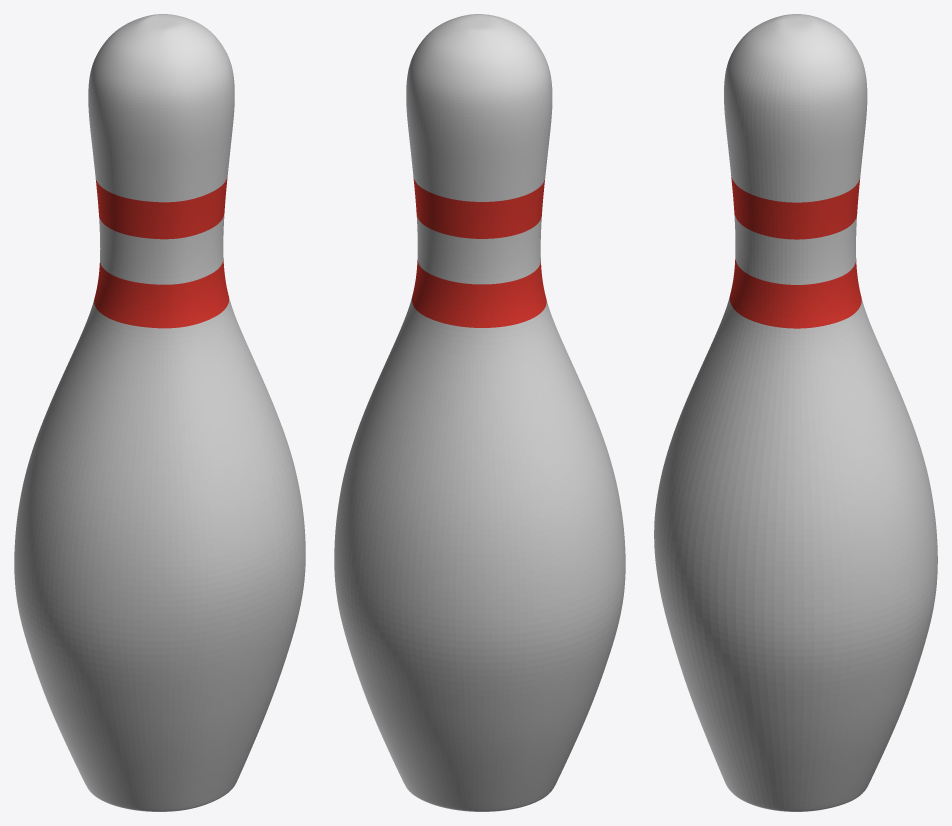
File: bolos.fbx
The picture shows the model from 3 angles, left to right: view 1: azimuth 30°, elevation 25°; view 2: azimuth 150°, elevation 25°; view 3: azimuth 270°, elevation 25°; orthographic projection.
Parts seen in each view (by area): view 1: Cylinder; view 2: Cylinder; view 3: Cylinder.
Part boxes in pixels (bbox=[...]): Cylinder: bbox=[14, 14, 305, 811]; Cylinder: bbox=[334, 14, 625, 811]; Cylinder: bbox=[654, 14, 937, 811].
Size of the model in its own units: 1.7 by 4.83 by 1.63.
